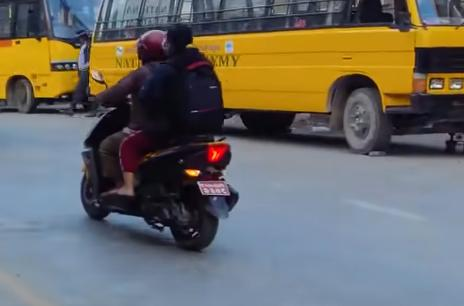school_bus: (87, 0, 464, 155), (0, 2, 94, 112)
scooter: (70, 71, 246, 251)
